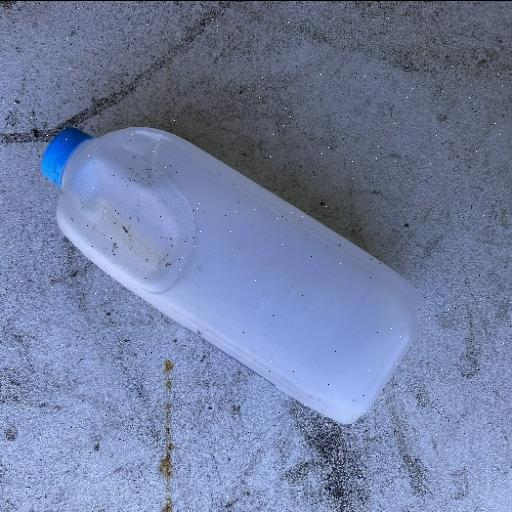Plastic: (38, 122, 425, 427)
